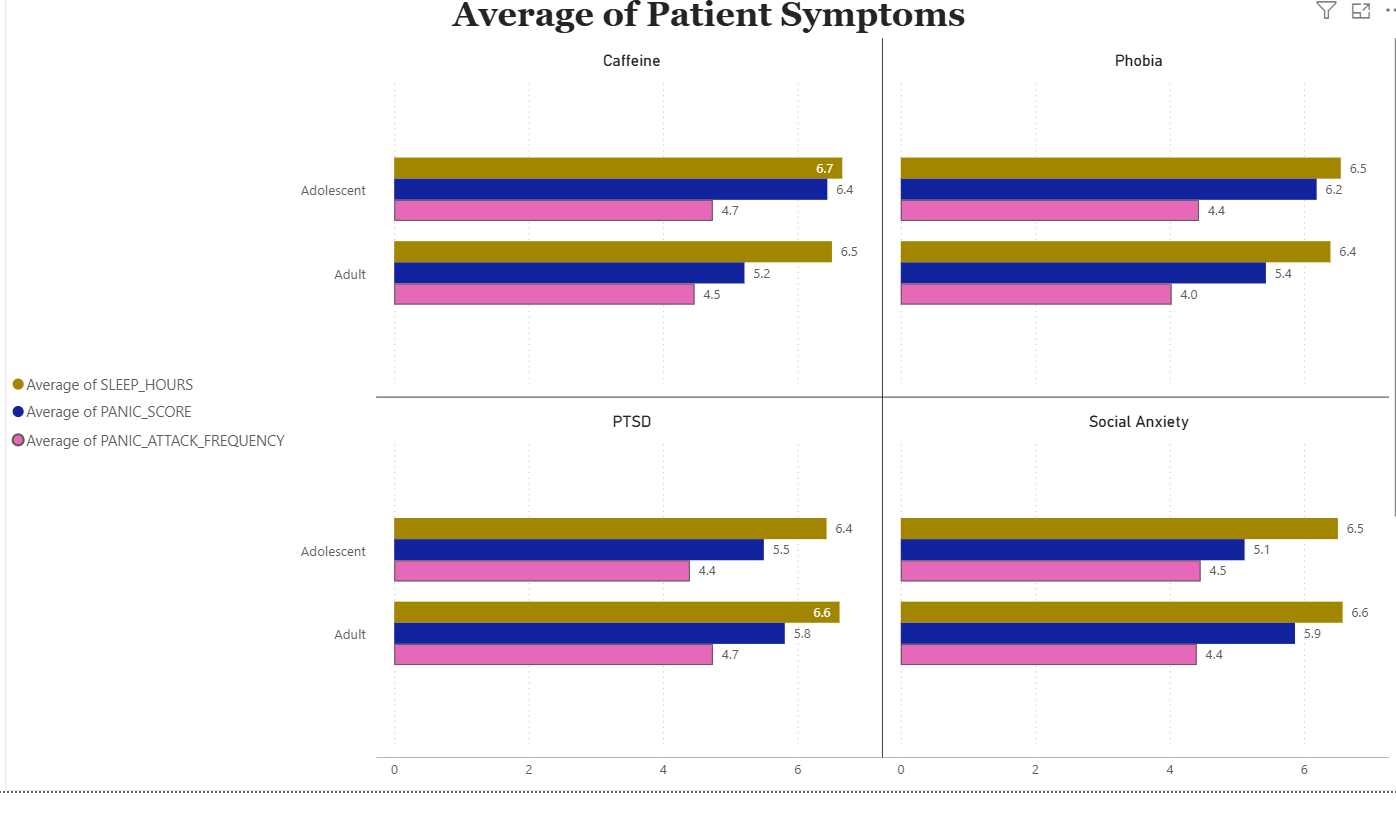

Layout of this report page (visuals, bound fields, positions):
{"tool":"powerbi","page":{"name":"Age Group Analysis","canvas":[1280,720],"ordinal":3},"visuals":[{"type":"clusteredBarChart","title":"Average of Patient Symptoms","fields":{"Category":["PANIC_ATTACK_DATA.AgeGroup"],"Rows":["PANIC_ATTACK_DATA.TRIGGER_REASON"],"Y":["Avg(PANIC_ATTACK_DATA.SLEEP_HOURS)","Avg(PANIC_ATTACK_DATA.PANIC_SCORE)","Avg(PANIC_ATTACK_DATA.PANIC_ATTACK_FREQUENCY)"]},"box":[10.5,0,1269.8,719.9],"z":0}]}

Visuals, with their boxes on the page's 1280x720 design canvas (x1, y1, x2, y2). These are canvas units, not pixel positions in the 1396x822 screenshot, which may show the page scaled, cropped or inside an application window:
"Average of Patient Symptoms" clusteredBarChart: [x1=10, y1=0, x2=1280, y2=720]
